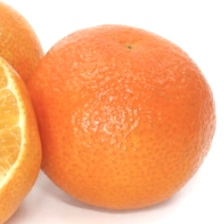orange: (60, 22, 208, 186)
